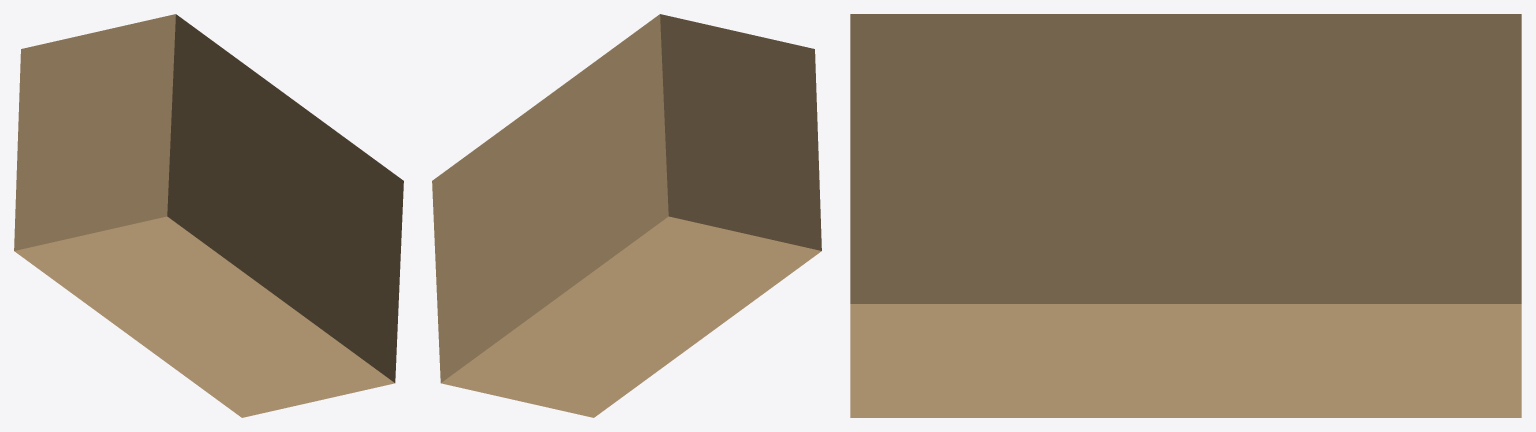
3 views of the same model, side by side, from view 1: azimuth 30°, elevation 25°; view 2: azimuth 150°, elevation 25°; view 3: azimuth 270°, elevation 25° (orthographic). The views are drawn at different scales.
Visible parts, largest first — view 1: 0_2_1_3_0_0_2_0_3_1_0; view 2: 0_2_1_3_0_0_2_0_3_1_0; view 3: 0_2_1_3_0_0_2_0_3_1_0.
Boxes of the visible parts, x1,y1,x2,y2 form: 0_2_1_3_0_0_2_0_3_1_0: [14, 14, 403, 417]; 0_2_1_3_0_0_2_0_3_1_0: [432, 14, 821, 417]; 0_2_1_3_0_0_2_0_3_1_0: [850, 14, 1521, 417].
Size of the model in its own units: 8.61 by 10.32 by 21.
